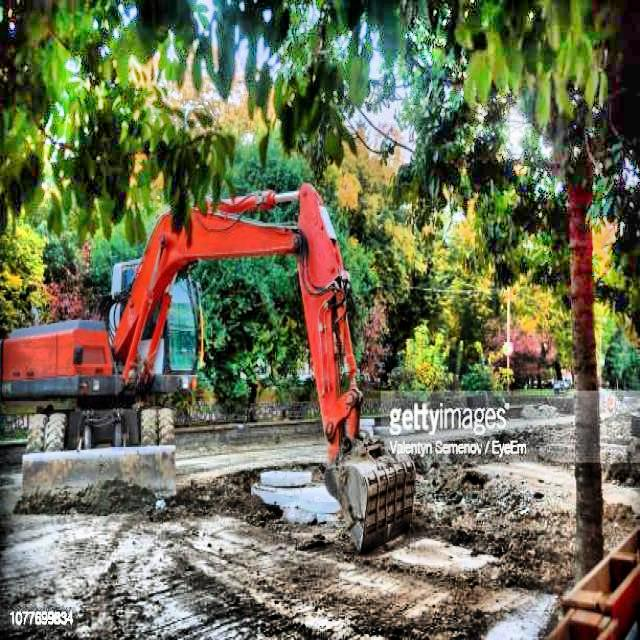excavator: (0, 179, 420, 553)
